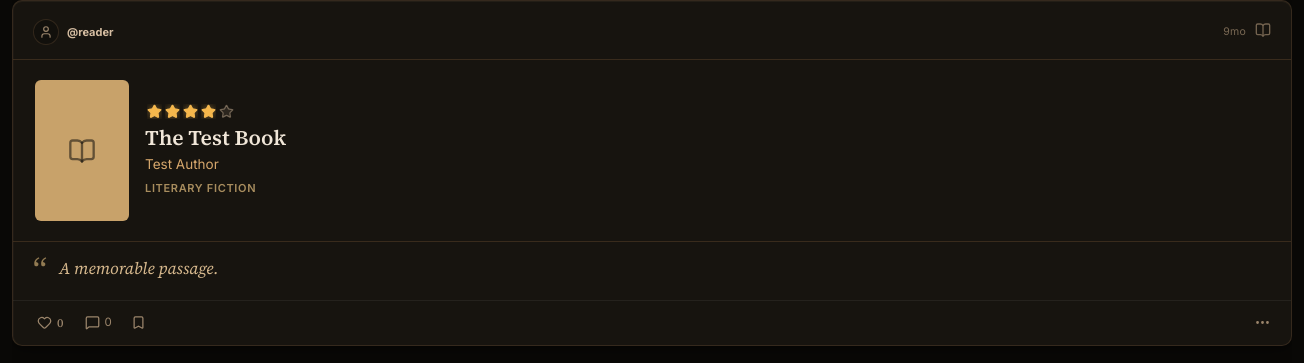
Test case: card actions menu › does not expose owner controls when their callbacks are absent
What coordinates should you click on to do the following:
click the button named "More entry actions"
I would click on:
 (1262, 323)
Its box is [1247,308,1277,338].
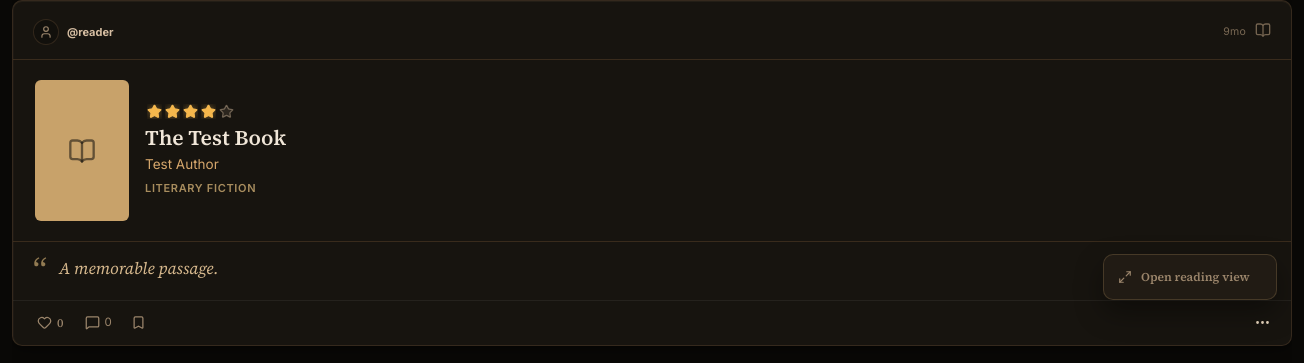
Result: the menu item "Open reading view" is shown at [1109,260,1271,294]
